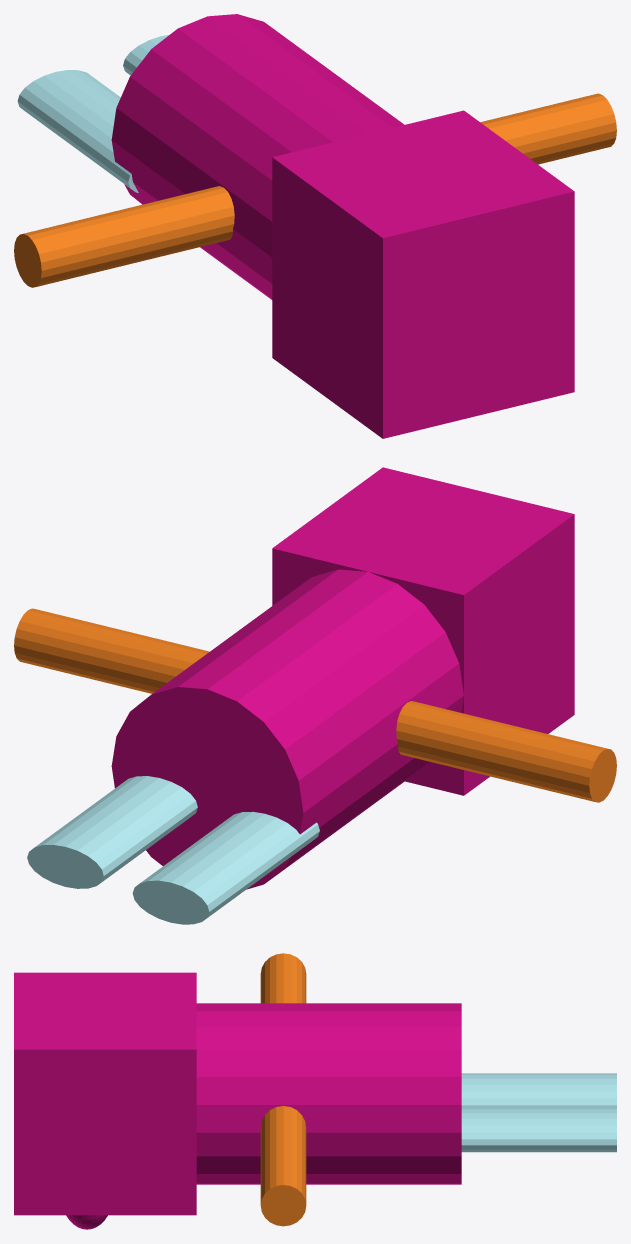
File: tinker.obj
3 views of the same model, one above another, from view 1: azimuth 30°, elevation 25°; view 2: azimuth 150°, elevation 25°; view 3: azimuth 270°, elevation 25° (orthographic). The views are drawn at different scales.
Visible parts, largest first — view 1: group_0_14093196, group_0_16089887, group_0_11593967; view 2: group_0_14093196, group_0_16089887, group_0_11593967; view 3: group_0_14093196, group_0_11593967, group_0_16089887.
Part boxes in pixels (x1,y1,x2,y2): group_0_14093196: [111, 14, 574, 438]; group_0_16089887: [14, 93, 616, 287]; group_0_11593967: [17, 35, 168, 192]; group_0_14093196: [111, 467, 574, 889]; group_0_16089887: [14, 608, 616, 802]; group_0_11593967: [27, 776, 319, 924]; group_0_14093196: [14, 972, 461, 1229]; group_0_11593967: [461, 1073, 616, 1152]; group_0_16089887: [260, 953, 306, 1226].
Bounding box in the file's own units: 60 × 24 × 66.
